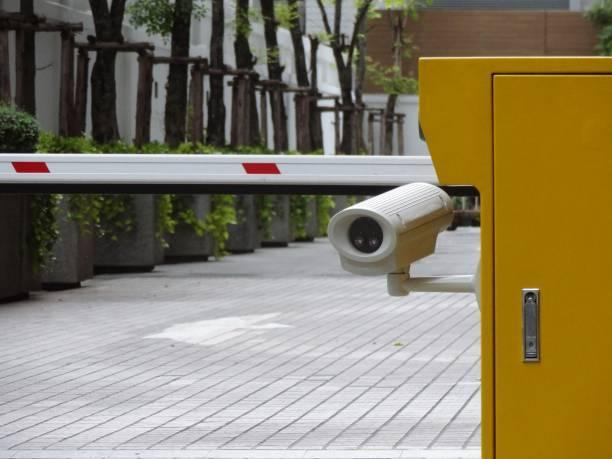camera: (316, 161, 461, 306)
